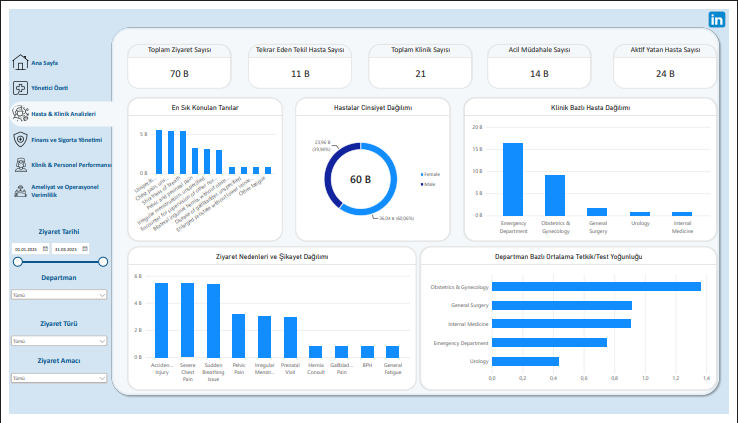

What the dashboard file says about the page in this screenshot:
{"tool":"powerbi","page":{"name":"Hasta & Klinik Analizleri","canvas":[1920,1080],"ordinal":2},"visuals":[{"type":"shape","box":[267.1,41.4,1635.7,995.7],"z":0},{"type":"actionButton","title":"Yönetici Özeti","box":[0,177.1,267.1,68.6],"z":1000},{"type":"image","box":[0,184.3,61.4,52.9],"z":2000},{"type":"actionButton","title":"Yönetici Özeti","box":[0,108.6,254.3,68.6],"z":3000},{"type":"image","box":[5.7,120,50,44.3],"z":4000},{"type":"actionButton","title":"Yönetici Özeti","box":[0,245.7,308.6,68.6],"z":5000},{"type":"image","box":[5.7,257.1,50,44.3],"z":6000},{"type":"actionButton","title":"Yönetici Özeti","box":[0,314.3,290,68.6],"z":7000},{"type":"image","box":[5.7,325.7,50,44.3],"z":8000},{"type":"actionButton","title":"Yönetici Özeti","box":[0,382.9,290,68.6],"z":9000},{"type":"image","box":[5.7,394.3,50,44.3],"z":10000},{"type":"actionButton","title":"Yönetici Özeti","box":[0,451.4,290,68.6],"z":11000},{"type":"image","box":[5.7,462.9,50,44.3],"z":12000},{"type":"image","box":[1854.3,0,65.7,55.7],"z":13000},{"type":"slicer","title":"Ziyaret Tarihi","fields":{"Values":["encounters.visit_date"]},"box":[0,580,267.1,122.9],"z":14000},{"type":"slicer","title":"Departman","fields":{"Values":["encounters.department"]},"box":[0,702.9,267.1,122.9],"z":15000},{"type":"slicer","title":"Ziyaret Türü","fields":{"Values":["encounters.visit_type"]},"box":[0,825.7,267.1,122.9],"z":16000},{"type":"slicer","title":"Ziyaret Amacı","fields":{"Values":["encounters.admission_type"]},"box":[0,925.7,267.1,122.9],"z":17000},{"type":"columnChart","title":"En Sık Konulan Tanılar","fields":{"Category":["diagnoses.diagnosis_description"],"Y":["Count(diagnoses.encounter_id)"]},"box":[317.1,237.1,411.4,381.4],"z":18000},{"type":"donutChart","title":"Hastalar Cinsiyet Dağılımı","fields":{"Category":["patients.gender"],"Y":["Count(patients.patient_id)"]},"box":[764.3,237.1,411.4,381.4],"z":19000},{"type":"clusteredColumnChart","title":"Klinik Bazlı Hasta Dağılımı","fields":{"Category":["encounters.department"],"Y":["Count(encounters.encounter_id)"]},"box":[1214.3,237.1,672.9,381.4],"z":20000},{"type":"cardVisual","title":"Toplam Ziyaret Sayısı","fields":{"Data":["Count(encounters.encounter_id)"]},"box":[317.1,94.3,274.3,117.1],"z":21000},{"type":"cardVisual","title":"Tekrar Eden Tekil Hasta Sayısı","fields":{"Data":["encounters.Tekrar_Eden_Tekil_Hasta"]},"box":[638.6,94.3,274.3,117.1],"z":22000},{"type":"cardVisual","title":"Toplam Klinik Sayısı","fields":{"Data":["Count(encounters.department)"]},"box":[960,94.3,274.3,117.1],"z":23000},{"type":"cardVisual","title":"Acil Müdahale Sayısı","fields":{"Data":["encounters.Acil_Ziyaret_Sayisi"]},"box":[1277.1,94.3,274.3,117.1],"z":24000},{"type":"cardVisual","title":"Aktif Yatan Hasta Sayısı","fields":{"Data":["encounters.Aktif_Yatis_Sayisi"]},"box":[1612.9,94.3,274.3,117.1],"z":25000},{"type":"barChart","title":"Departman Bazlı Ortalama Tetkik/Test Yoğunluğu","fields":{"Category":["encounters.department"],"Y":["lab_tests.Muayene_Basina_Test_Sayisi"]},"box":[1097.1,634.3,790,381.4],"z":26000},{"type":"columnChart","title":"Ziyaret Nedenleri ve Şikayet Dağılımı","fields":{"Category":["encounters.reason_for_visit"],"Y":["CountNonNull(encounters.encounter_id)"]},"box":[317.1,634.3,768.6,381.4],"z":27000}]}

Visuals, with their boxes on the page's 1920x1080 design canvas (x1, y1, x2, y2). These are canvas units, not pixel positions in the 738x423 screenshot, which may show the page scaled, cropped or inside an application window:
shape: 267,41,1903,1037
"Yönetici Özeti" actionButton: 0,177,267,246
image: 0,184,61,237
"Yönetici Özeti" actionButton: 0,109,254,177
image: 6,120,56,164
"Yönetici Özeti" actionButton: 0,246,309,314
image: 6,257,56,301
"Yönetici Özeti" actionButton: 0,314,290,383
image: 6,326,56,370
"Yönetici Özeti" actionButton: 0,383,290,452
image: 6,394,56,439
"Yönetici Özeti" actionButton: 0,451,290,520
image: 6,463,56,507
image: 1854,0,1920,56
"Ziyaret Tarihi" slicer: 0,580,267,703
"Departman" slicer: 0,703,267,826
"Ziyaret Türü" slicer: 0,826,267,949
"Ziyaret Amacı" slicer: 0,926,267,1049
"En Sık Konulan Tanılar" columnChart: 317,237,728,618
"Hastalar Cinsiyet Dağılımı" donutChart: 764,237,1176,618
"Klinik Bazlı Hasta Dağılımı" clusteredColumnChart: 1214,237,1887,618
"Toplam Ziyaret Sayısı" cardVisual: 317,94,591,211
"Tekrar Eden Tekil Hasta Sayısı" cardVisual: 639,94,913,211
"Toplam Klinik Sayısı" cardVisual: 960,94,1234,211
"Acil Müdahale Sayısı" cardVisual: 1277,94,1551,211
"Aktif Yatan Hasta Sayısı" cardVisual: 1613,94,1887,211
"Departman Bazlı Ortalama Tetkik/Test Yoğunluğu" barChart: 1097,634,1887,1016
"Ziyaret Nedenleri ve Şikayet Dağılımı" columnChart: 317,634,1086,1016
